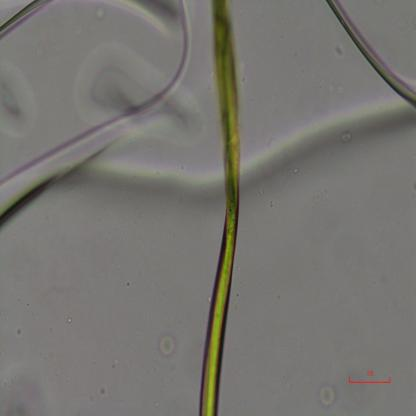Air bubble: (0, 0, 198, 214), (325, 0, 416, 109)
Background material: (237, 84, 416, 202), (91, 38, 197, 146), (83, 156, 225, 222), (0, 374, 49, 416), (317, 378, 341, 409), (155, 332, 177, 360), (337, 130, 355, 146)
Microfibre: (191, 1, 240, 415)
